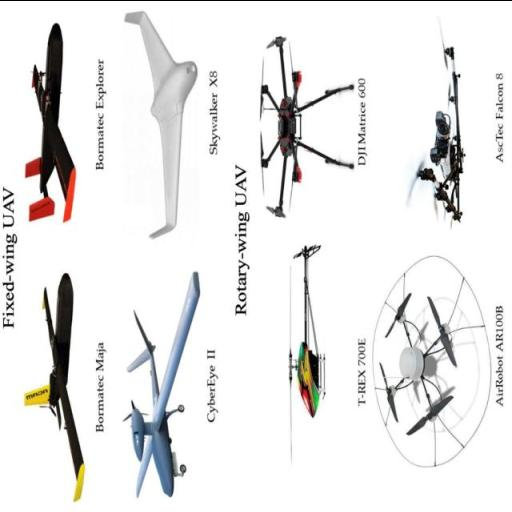uav: (22, 268, 94, 502)
